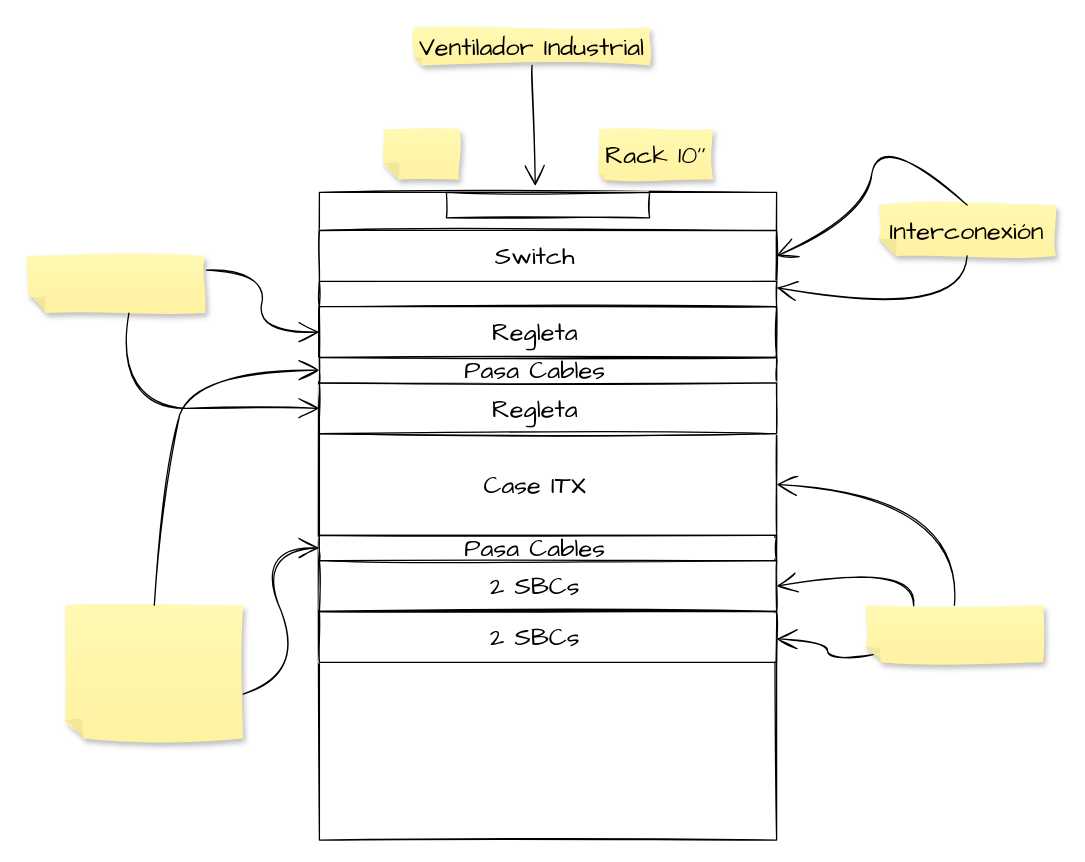
Image size: 1085x862. Some labels were removed from this diagram. Each missing label, with the centre of its shape:
"12U" goes at (421,155).
"Energía" goes at (117,285).
"Forma de ordenar los cables y etiquetarlos" goes at (155,673).
"Patch Panel" goes at (547,293).
"Servers" goes at (955,635).
"Ventilador" goes at (547,204).
